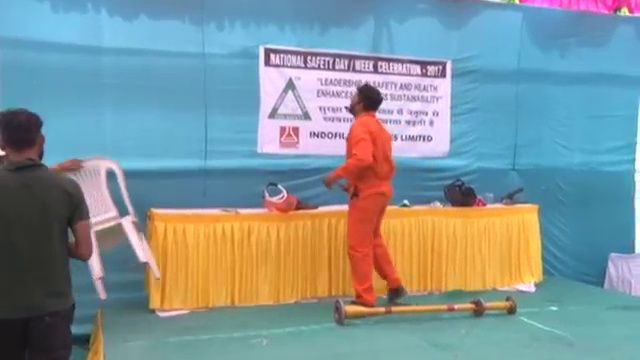helmet_off: (1, 107, 47, 169), (347, 83, 383, 116)
person: (1, 108, 94, 360), (322, 83, 409, 307)
